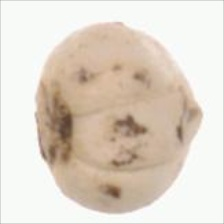L5: (62, 97, 182, 170), (29, 78, 76, 172), (181, 85, 203, 154)
L6: (32, 19, 204, 216)
